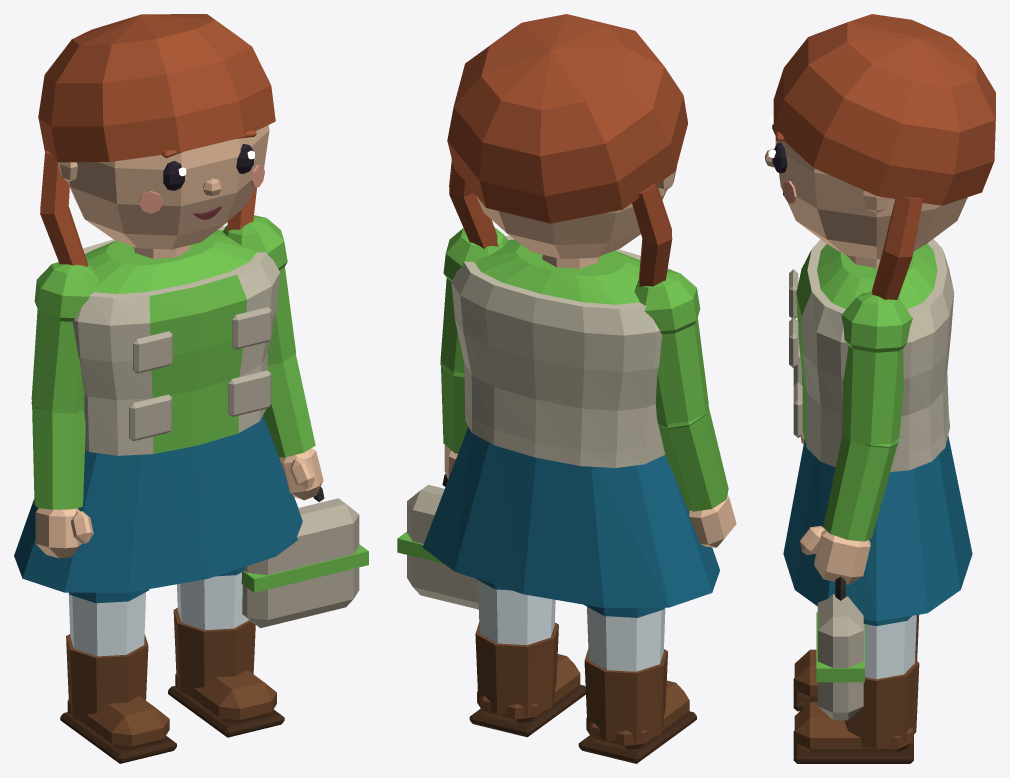
File: ver-n2.glb
3 views of the same model, side by side, from view 1: azimuth 30°, elevation 25°; view 2: azimuth 150°, elevation 25°; view 3: azimuth 270°, elevation 25° (orthographic).
Visible parts, largest first — view 1: haare, rock, weste, kopf, arm_r, gegenstand_case, schuh_r, schuh_l, arm_l, taschen, torso, bein_r (+4 smaller); view 2: haare, rock, weste, arm_r, schuh_r, schuh_l, torso, kopf, bein_r, arm_l, gegenstand_case, bein_l (+1 smaller); view 3: haare, rock, weste, arm_l, schuh_l, kopf, gegenstand_case, torso, bein_l, hand_l, taschen, schuh_r (+1 smaller).
Boxes of the visible parts, x1,y1,x2,y2 form: haare: (38,14,275,266); rock: (14,415,302,592); weste: (72,226,280,455); kopf: (58,125,269,249); arm_r: (31,262,98,509); gegenstand_case: (241,486,368,627); schuh_r: (60,634,176,763); schuh_l: (168,608,284,737); arm_l: (223,215,315,457); taschen: (129,307,271,441); torso: (85,230,256,294); bein_r: (68,589,149,656); haare: (447,14,687,286); rock: (422,427,719,607); weste: (451,235,671,467); arm_r: (634,269,728,511); schuh_r: (578,649,696,763); schuh_l: (469,622,585,737); torso: (474,239,640,304); kopf: (476,166,676,258); bein_r: (584,604,665,671); arm_l: (440,227,508,453); gegenstand_case: (397,473,478,609); bein_l: (476,579,555,645); haare: (773,14,995,299); rock: (783,436,972,621); weste: (796,239,954,471); arm_l: (823,292,912,541); schuh_l: (793,659,919,763); kopf: (775,140,967,259); gegenstand_case: (816,576,864,720); torso: (817,243,937,309); bein_l: (863,615,916,679); hand_l: (800,526,870,584); taschen: (789,269,802,437); schuh_r: (793,614,918,711).
Bounding box in the file's own units: 0.0115 × 0.0241 × 0.00726.
